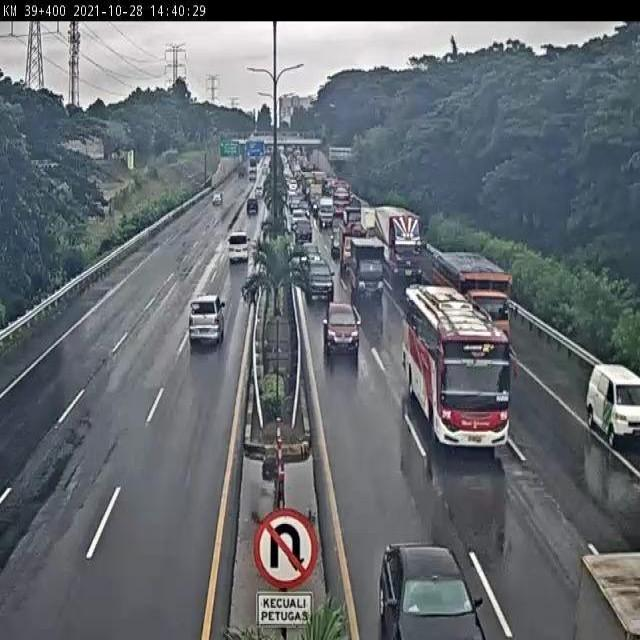bus-l-: (407, 282, 511, 454)
car: (588, 362, 640, 447), (187, 295, 226, 345), (323, 303, 360, 352), (307, 258, 333, 298), (229, 232, 253, 263), (299, 244, 320, 271)
truck-l-: (430, 252, 510, 348), (374, 204, 420, 279)
truck-m-: (349, 235, 388, 301), (340, 224, 370, 273)
